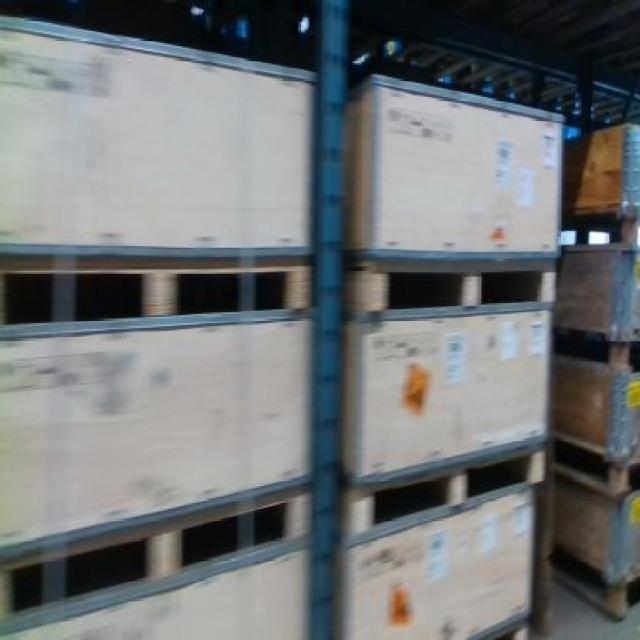pallets: (0, 6, 560, 637), (554, 138, 637, 588)
